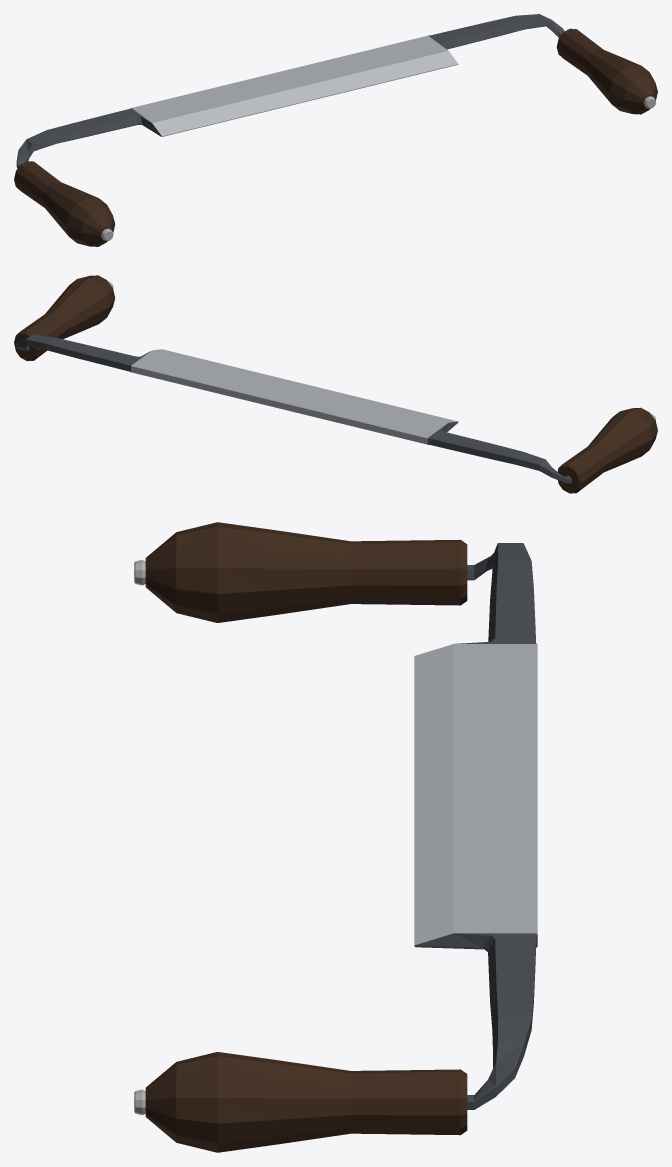
3 renders of one model, top to bottom at view 1: azimuth 30°, elevation 25°; view 2: azimuth 150°, elevation 25°; view 3: azimuth 270°, elevation 25°, orthographic. The views are drawn at different scales.
Visible parts, largest first — view 1: Continuous_steel_blade_arms_and_seated_tangs, Left_pear_wood_grip_with_through_bore, Right_pear_wood_grip_with_through_bore; view 2: Continuous_steel_blade_arms_and_seated_tangs, Left_pear_wood_grip_with_through_bore, Right_pear_wood_grip_with_through_bore; view 3: Continuous_steel_blade_arms_and_seated_tangs, Left_pear_wood_grip_with_through_bore, Right_pear_wood_grip_with_through_bore.
Boxes of the visible parts, x1=… form: Continuous_steel_blade_arms_and_seated_tangs: x1=16, y1=14, x2=564, y2=168; Left_pear_wood_grip_with_through_bore: x1=14, y1=161, x2=115, y2=246; Right_pear_wood_grip_with_through_bore: x1=556, y1=28, x2=657, y2=114; Continuous_steel_blade_arms_and_seated_tangs: x1=16, y1=334, x2=572, y2=483; Left_pear_wood_grip_with_through_bore: x1=557, y1=407, x2=657, y2=493; Right_pear_wood_grip_with_through_bore: x1=14, y1=275, x2=115, y2=361; Continuous_steel_blade_arms_and_seated_tangs: x1=414, y1=543, x2=537, y2=1109; Left_pear_wood_grip_with_through_bore: x1=145, y1=522, x2=467, y2=622; Right_pear_wood_grip_with_through_bore: x1=145, y1=1052, x2=467, y2=1152.
Bounding box in the file's own units: 0.3956 × 0.0306 × 0.1178.
